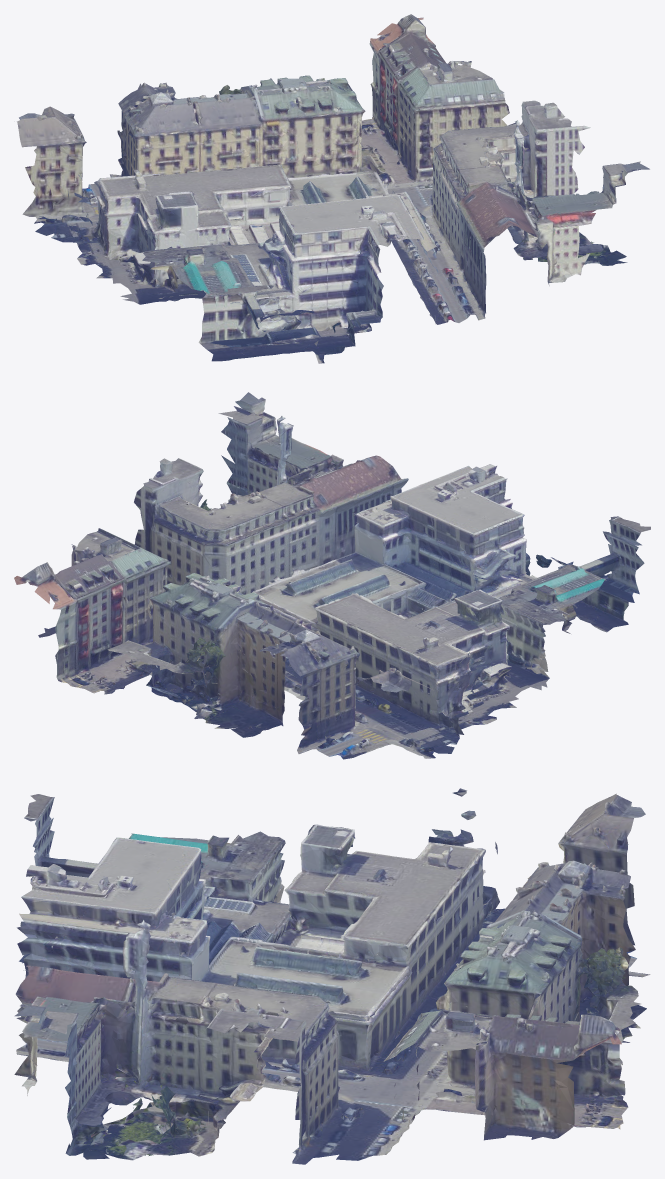
3 renders of one model, top to bottom at view 1: azimuth 30°, elevation 25°; view 2: azimuth 150°, elevation 25°; view 3: azimuth 270°, elevation 25°, orthographic. The views are drawn at different scales.
Size of the model in its own units: 108 by 37.71 by 108.
Materials: 1 (1 with a texture image).
